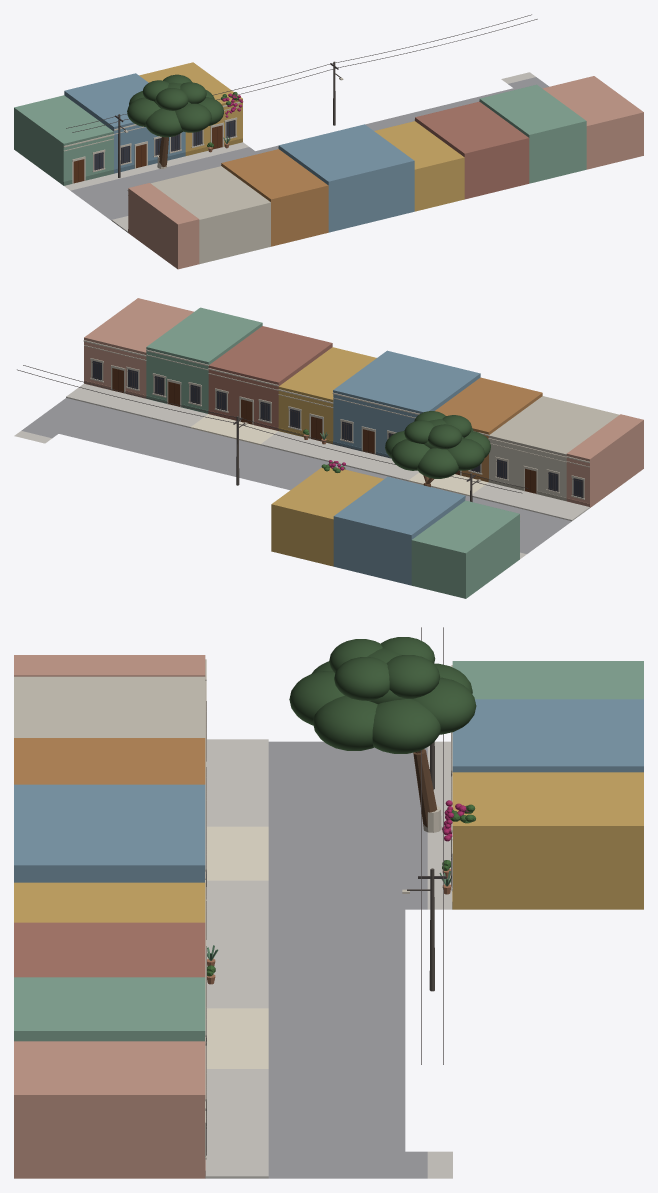
The model's file is calle.glb.
3 renders of one model, top to bottom at view 1: azimuth 30°, elevation 25°; view 2: azimuth 150°, elevation 25°; view 3: azimuth 270°, elevation 25°, orthographic. The views are drawn at different scales.
Parts seen in each view (by area): view 1: calle_fachadas, calle_arroyo, calle_laurel_copa, calle_banqueta, calle_herreria; view 2: calle_fachadas, calle_arroyo, calle_banqueta, calle_laurel_copa, calle_herreria, calle_pasta; view 3: calle_fachadas, calle_arroyo, calle_banqueta, calle_laurel_copa, calle_pasta, calle_herreria, calle_laurel_tronco.
Part boxes in pixels (x1,y1,x2,y2): calle_fachadas: [14, 61, 643, 269]; calle_arroyo: [70, 77, 549, 220]; calle_laurel_copa: [127, 74, 223, 137]; calle_banqueta: [64, 72, 535, 232]; calle_herreria: [66, 14, 537, 170]; calle_fachadas: [83, 298, 643, 598]; calle_arroyo: [21, 398, 571, 553]; calle_banqueta: [14, 383, 589, 558]; calle_laurel_copa: [385, 411, 490, 478]; calle_herreria: [17, 361, 582, 497]; calle_pasta: [190, 414, 488, 496]; calle_fachadas: [14, 655, 643, 1178]; calle_arroyo: [268, 741, 427, 1178]; calle_banqueta: [205, 739, 452, 1178]; calle_laurel_copa: [289, 637, 476, 753]; calle_pasta: [206, 826, 268, 1068]; calle_herreria: [206, 627, 451, 1155]; calle_laurel_tronco: [413, 749, 437, 827].
Bounding box in the file's own units: 65 × 12.42 × 39.6.
